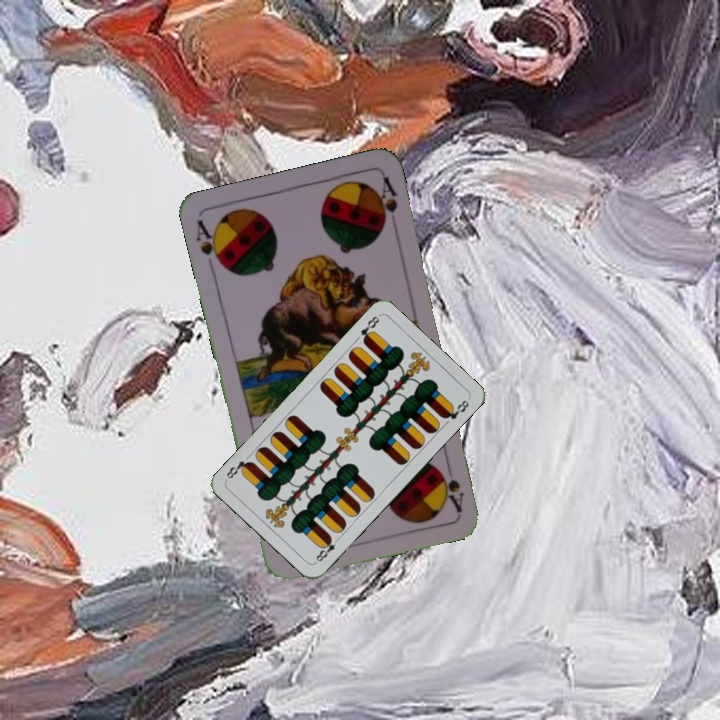E8: (311, 533, 343, 565), (356, 312, 382, 346)
SA: (192, 216, 227, 271), (441, 455, 467, 514)
